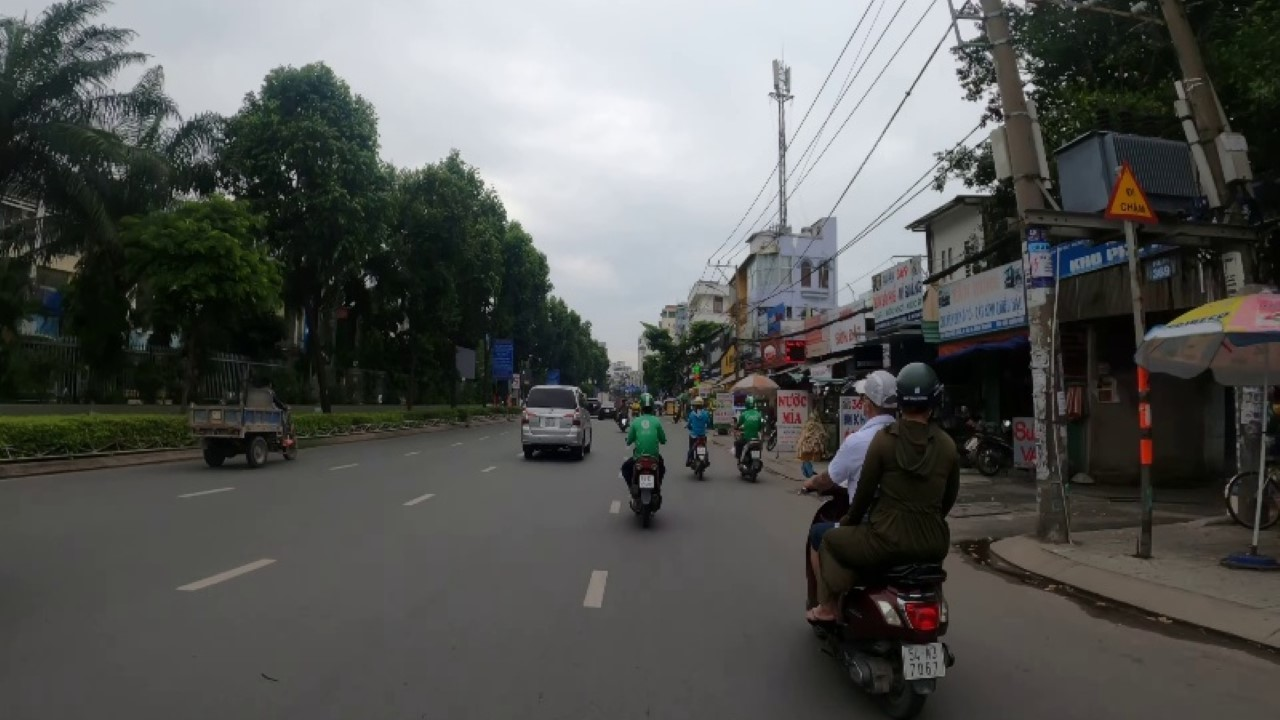di_cham: (1101, 158, 1161, 222)
